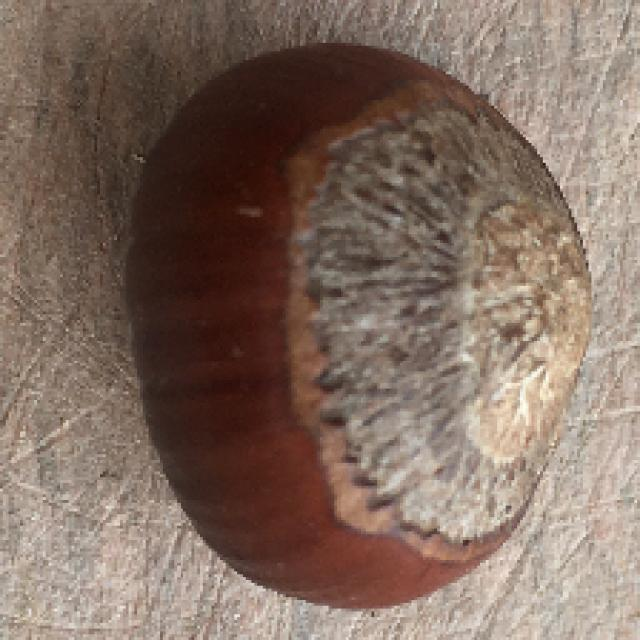qualityHazelnut: (112, 42, 591, 614)
